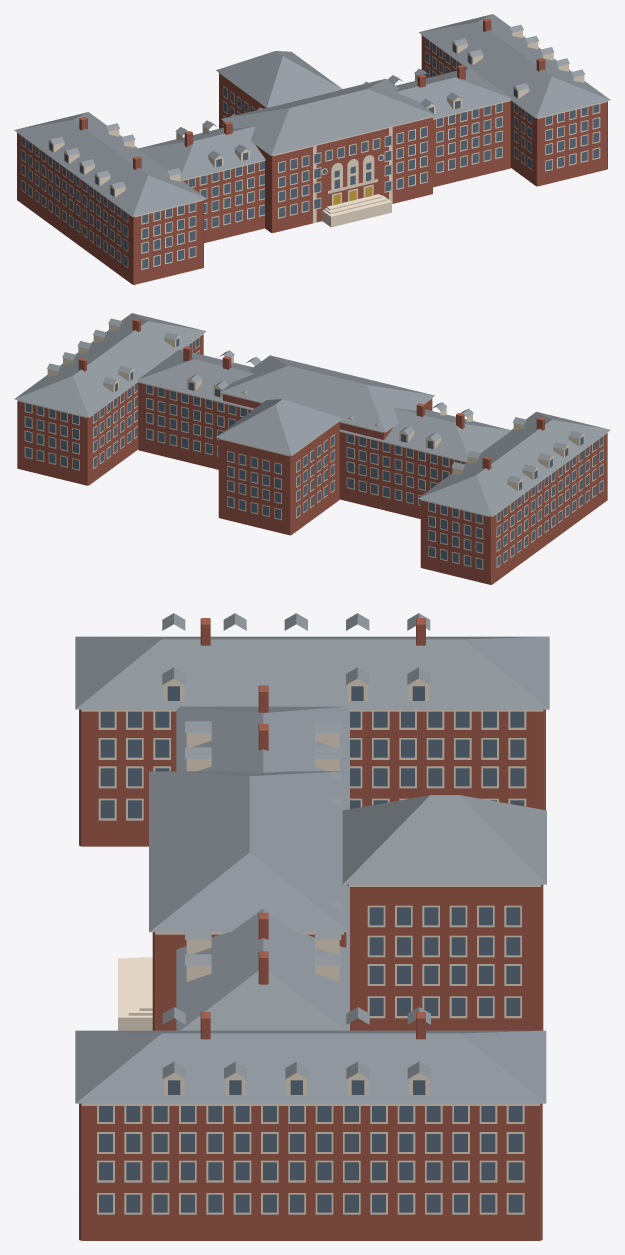
File: nyc-boylan-hall.glb
3 renders of one model, top to bottom at view 1: azimuth 30°, elevation 25°; view 2: azimuth 150°, elevation 25°; view 3: azimuth 270°, elevation 25°, orthographic. The views are drawn at different scales.
Visible parts, largest first — view 1: Boylan Hall; view 2: Boylan Hall; view 3: Boylan Hall.
Boxes of the visible parts, box(x1,y1,x2,y2) form: Boylan Hall: box(14, 14, 610, 284); Boylan Hall: box(14, 313, 610, 584); Boylan Hall: box(75, 613, 549, 1240).
Size of the model in its own units: 134 by 28.5 by 57.3.
